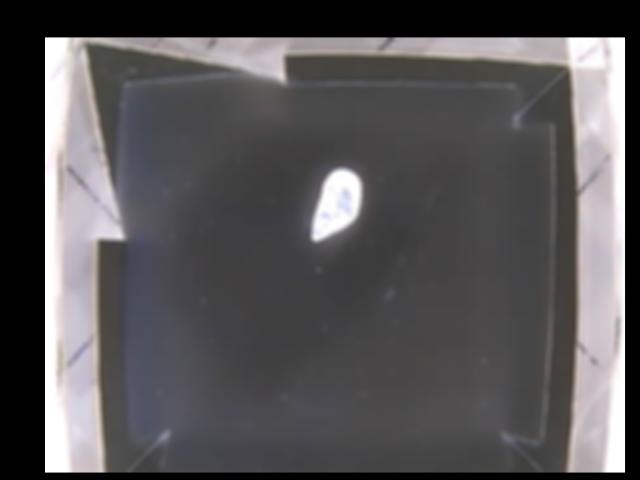Shell: (310, 168, 364, 242)
